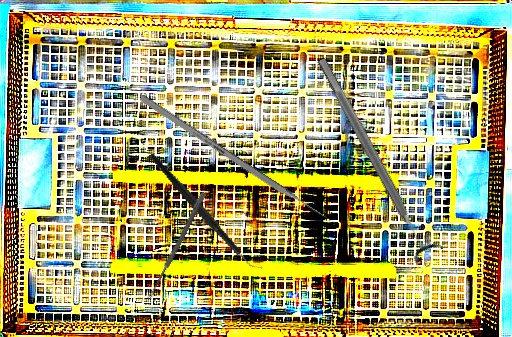Chopper: (147, 130, 266, 293)
Fixation Ring: (306, 51, 446, 264)
Pusher: (138, 94, 339, 228)
Surgical Spoon: (146, 191, 207, 301)
